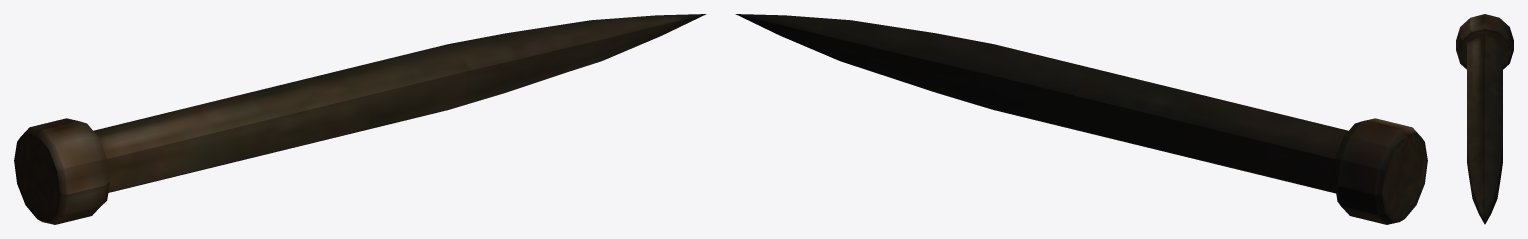
Rendered from s_spike.obj.
3 renders of one model, left to right at view 1: azimuth 30°, elevation 25°; view 2: azimuth 150°, elevation 25°; view 3: azimuth 270°, elevation 25°, orthographic. The views are drawn at different scales.
Bounding box in the file's own units: 9.96 × 1.31 × 1.31.
1 material, 1 textured.
